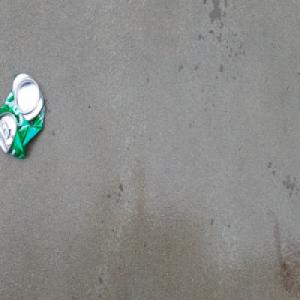SodaCan: (0, 71, 46, 161)
